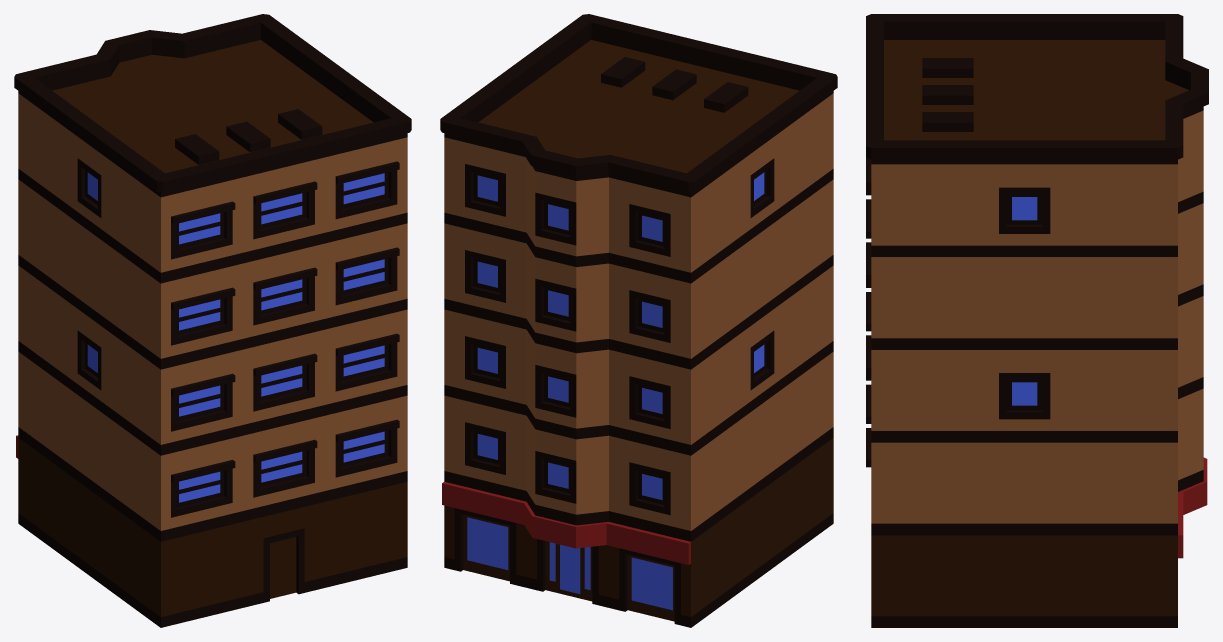
The picture shows the model from 3 angles, left to right: view 1: azimuth 30°, elevation 25°; view 2: azimuth 150°, elevation 25°; view 3: azimuth 270°, elevation 25°; orthographic projection. The views are drawn at different scales.
Parts seen in each view (by area): view 1: large_buildingE__defaultMat.003__defaultMat.005, border_border.003_border.005, window_door.003_door.005, window_window.003_window.005; view 2: large_buildingE__defaultMat.003__defaultMat.005, border_border.003_border.005, window_door.003_door.005, window_window.003_window.005, window_roof.003_roof.005; view 3: large_buildingE__defaultMat.003__defaultMat.005, window_door.003_door.005, border_border.003_border.005, window_window.003_window.005, window_roof.003_roof.005.
Boxes of the visible parts, box(x1,y1,x2,y2) form: large_buildingE__defaultMat.003__defaultMat.005: box(18, 93, 407, 530); border_border.003_border.005: box(14, 14, 411, 627); window_door.003_door.005: box(18, 40, 407, 616); window_window.003_window.005: box(87, 172, 384, 502); large_buildingE__defaultMat.003__defaultMat.005: box(444, 93, 833, 530); border_border.003_border.005: box(440, 14, 837, 627); window_door.003_door.005: box(444, 40, 833, 621); window_window.003_window.005: box(467, 172, 764, 610); window_roof.003_roof.005: box(442, 481, 690, 564); large_buildingE__defaultMat.003__defaultMat.005: box(871, 110, 1203, 523); window_door.003_door.005: box(871, 40, 1188, 616); border_border.003_border.005: box(866, 14, 1208, 627); window_window.003_window.005: box(1012, 197, 1037, 405); window_roof.003_roof.005: box(1178, 457, 1207, 558).
Size of the model in its own units: 1.24 by 2.08 by 1.34.
